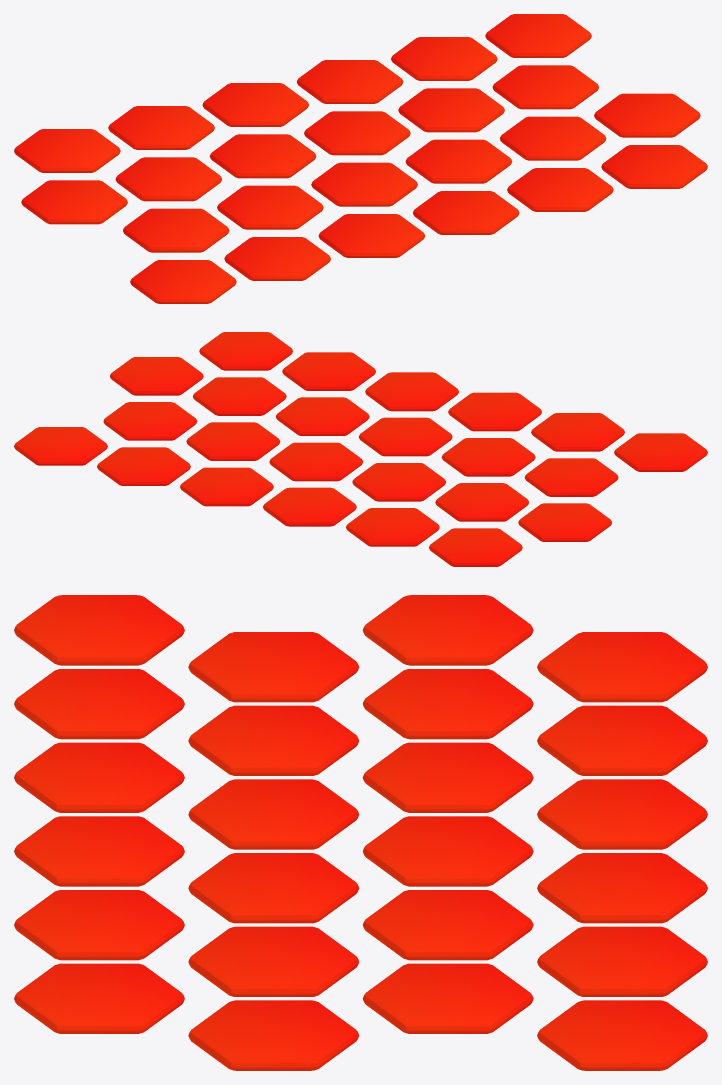
File: hexagonal_test.glb
3 views of the same model, one above another, from view 1: azimuth 30°, elevation 25°; view 2: azimuth 150°, elevation 25°; view 3: azimuth 270°, elevation 25° (orthographic). The views are drawn at different scales.
Parts seen in each view (by area): view 1: Hexagonal_Panel.027MeshLOD0, Hexagonal_Panel.036MeshLOD0, Hexagonal_Panel.028MeshLOD0, Hexagonal_Panel.032MeshLOD0, Hexagonal_Panel.038MeshLOD0, Hexagonal_Panel.046MeshLOD0, Hexagonal_Panel.029MeshLOD0, Hexagonal_Panel.031MeshLOD0, Hexagonal_Panel.037MeshLOD0, Hexagonal_Panel.047MeshLOD0, Hexagonal_Panel.030MeshLOD0, Hexagonal_Panel.045MeshLOD0 (+12 smaller); view 2: Hexagonal_Panel.028MeshLOD0, Hexagonal_Panel.034MeshLOD0, Hexagonal_Panel.038MeshLOD0, Hexagonal_Panel.044MeshLOD0, Hexagonal_Panel.025MeshLOD0, Hexagonal_Panel.041MeshLOD0, Hexagonal_Panel.033MeshLOD0, Hexagonal_Panel.042MeshLOD0, Hexagonal_Panel.026MeshLOD0, Hexagonal_Panel.027MeshLOD0, Hexagonal_Panel.036MeshLOD0, Hexagonal_Panel.040MeshLOD0 (+12 smaller); view 3: Hexagonal_Panel.032MeshLOD0, Hexagonal_Panel.046MeshLOD0, Hexagonal_Panel.026MeshLOD0, Hexagonal_Panel.028MeshLOD0, Hexagonal_Panel.034MeshLOD0, Hexagonal_Panel.038MeshLOD0, Hexagonal_Panel.040MeshLOD0, Hexagonal_Panel.044MeshLOD0, Hexagonal_Panel.027MeshLOD0, Hexagonal_Panel.031MeshLOD0, Hexagonal_Panel.036MeshLOD0, Hexagonal_Panel.047MeshLOD0 (+12 smaller).
Boxes of the visible parts, x1,y1,x2,y2 form: Hexagonal_Panel.027MeshLOD0: (217,185,323,229); Hexagonal_Panel.036MeshLOD0: (398,88,504,132); Hexagonal_Panel.028MeshLOD0: (311,162,417,206); Hexagonal_Panel.032MeshLOD0: (21,180,127,224); Hexagonal_Panel.038MeshLOD0: (304,111,410,155); Hexagonal_Panel.046MeshLOD0: (594,93,700,137); Hexagonal_Panel.029MeshLOD0: (123,208,229,252); Hexagonal_Panel.031MeshLOD0: (209,134,316,178); Hexagonal_Panel.037MeshLOD0: (492,65,598,109); Hexagonal_Panel.047MeshLOD0: (405,139,512,183); Hexagonal_Panel.030MeshLOD0: (115,157,221,201); Hexagonal_Panel.045MeshLOD0: (500,116,606,160); Hexagonal_Panel.028MeshLOD0: (359,417,452,456); Hexagonal_Panel.034MeshLOD0: (263,487,356,526); Hexagonal_Panel.038MeshLOD0: (269,442,362,481); Hexagonal_Panel.044MeshLOD0: (365,372,458,411); Hexagonal_Panel.025MeshLOD0: (448,392,541,431); Hexagonal_Panel.041MeshLOD0: (180,467,273,506); Hexagonal_Panel.033MeshLOD0: (346,508,439,546); Hexagonal_Panel.042MeshLOD0: (282,352,375,390); Hexagonal_Panel.026MeshLOD0: (614,433,707,471); Hexagonal_Panel.027MeshLOD0: (441,438,535,476); Hexagonal_Panel.036MeshLOD0: (186,422,280,460); Hexagonal_Panel.040MeshLOD0: (14,427,107,465); Hexagonal_Panel.032MeshLOD0: (362,595,533,665); Hexagonal_Panel.046MeshLOD0: (188,1000,359,1070); Hexagonal_Panel.026MeshLOD0: (14,595,184,665); Hexagonal_Panel.028MeshLOD0: (188,779,359,849); Hexagonal_Panel.034MeshLOD0: (537,779,707,849); Hexagonal_Panel.038MeshLOD0: (362,816,533,886); Hexagonal_Panel.040MeshLOD0: (537,1000,707,1070); Hexagonal_Panel.044MeshLOD0: (14,816,184,886); Hexagonal_Panel.027MeshLOD0: (188,705,358,775); Hexagonal_Panel.031MeshLOD0: (362,742,533,812); Hexagonal_Panel.036MeshLOD0: (363,890,533,960); Hexagonal_Panel.047MeshLOD0: (188,853,359,923).
Size of what is drawn, in the model's own units: 12.73 by 0.1498 by 7.96.
Materials: 1 (1 with a texture image).
